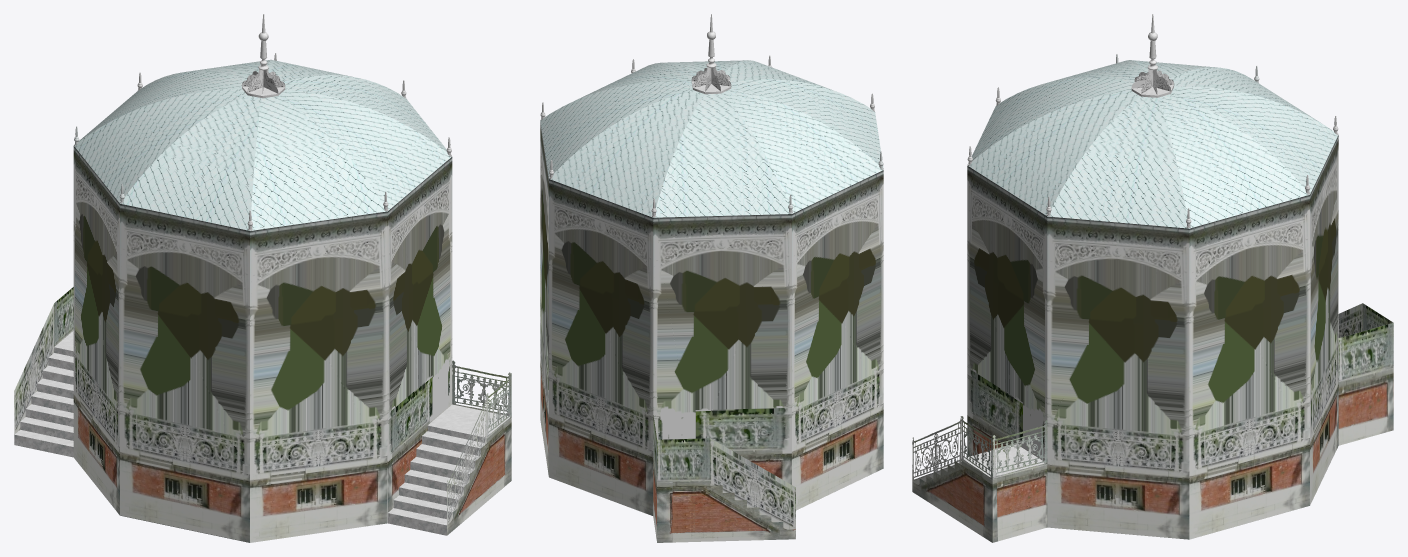
The model's file is Kiosco.fbx.
3 renders of one model, left to right at view 1: azimuth 30°, elevation 25°; view 2: azimuth 150°, elevation 25°; view 3: azimuth 270°, elevation 25°, orthographic. The views are drawn at different scales.
Visible parts, largest first — view 1: Group1; view 2: Group1; view 3: Group1.
Boxes of the visible parts, <box> form: Group1: <box>14,14,511,542</box>; Group1: <box>540,14,883,542</box>; Group1: <box>912,14,1393,542</box>.
Bounding box in the file's own units: 8.8 × 11.22 × 10.94.
